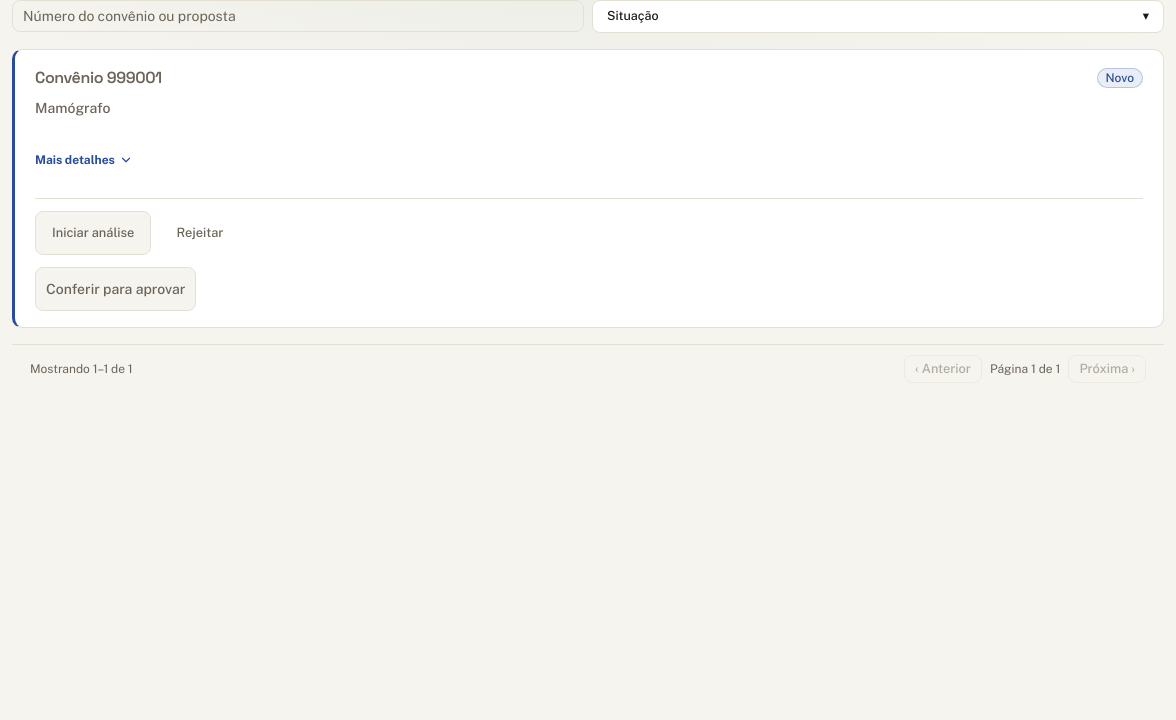
Test case: conferência e aprovação no Radar › exige confirmação e justificativa antes de enviar
Click the button "Conferir para aprovar" at (116, 289), box [35, 267, 196, 311]
(page scrolled)
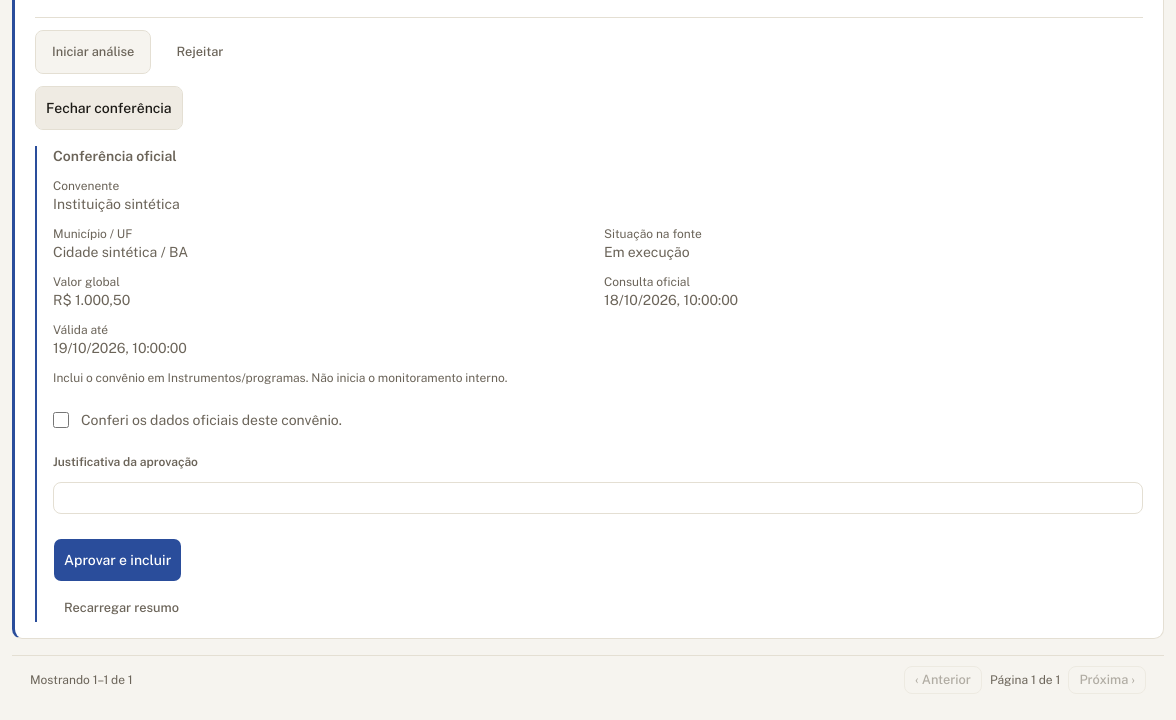
Now the field labelled "Justificativa da aprovação" is shown, box [53, 482, 1143, 514]
Click the button "Aprovar e incluir" at (118, 560), box [53, 538, 182, 582]
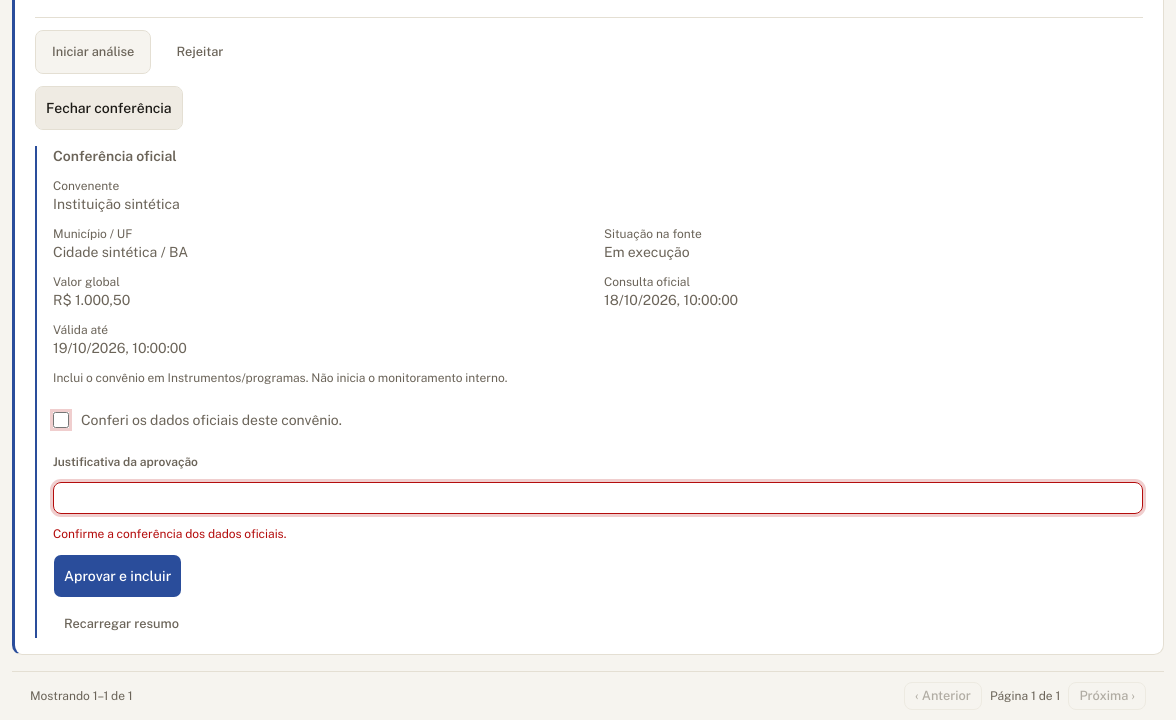
Now the text "Confirme a conferência dos dados oficiais." is shown, box [53, 527, 286, 541]
